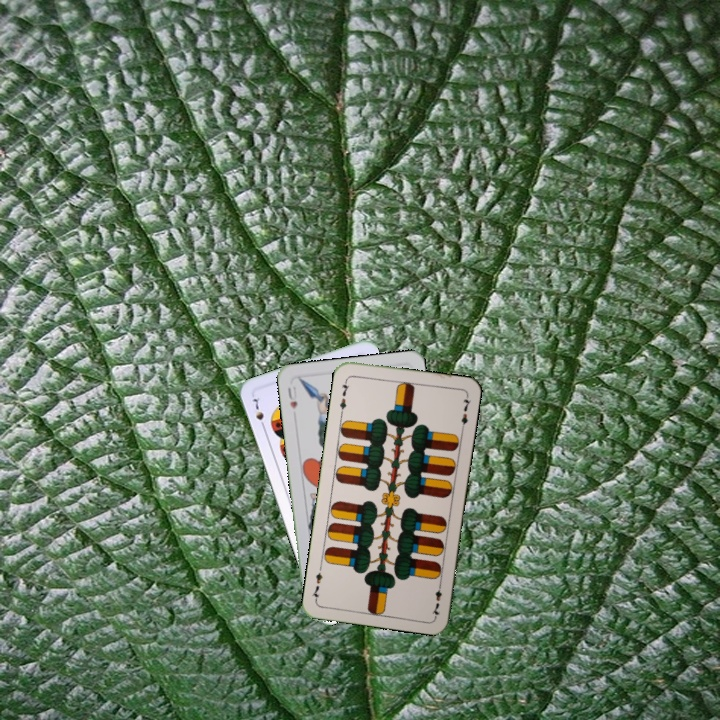E7: (336, 375, 352, 416), (428, 578, 444, 619)
HU: (283, 382, 300, 412)
S7: (249, 393, 268, 432)
